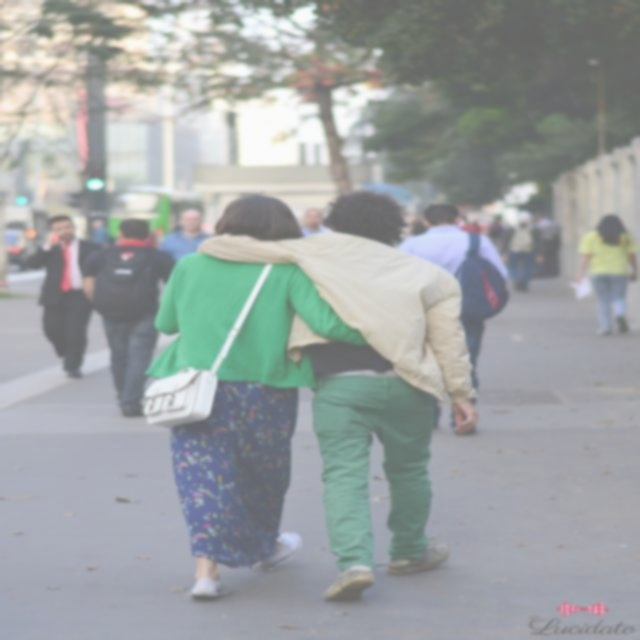pessoa: (196, 190, 483, 604), (142, 192, 378, 602), (394, 202, 514, 438), (80, 218, 178, 418), (16, 212, 120, 384), (566, 210, 640, 344), (494, 207, 544, 295), (153, 206, 220, 266), (527, 210, 565, 280), (455, 213, 485, 259), (488, 213, 514, 256), (296, 208, 332, 238), (88, 216, 109, 244), (403, 219, 430, 239)
